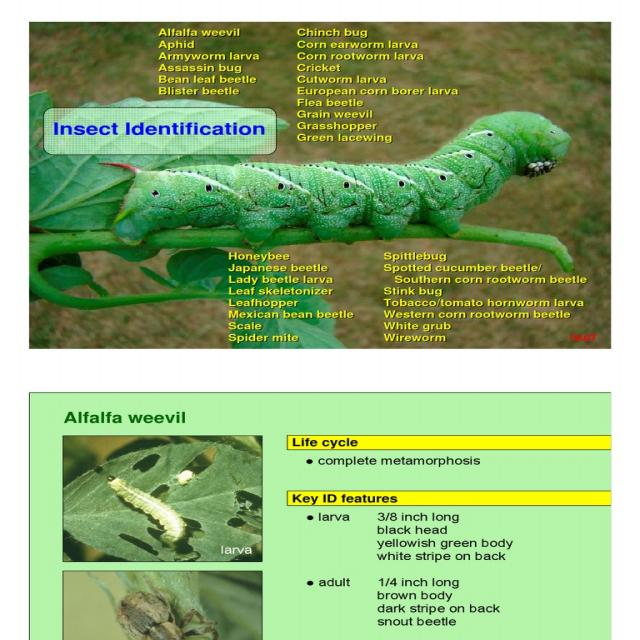cornborer-Larva-: (100, 470, 194, 548)
